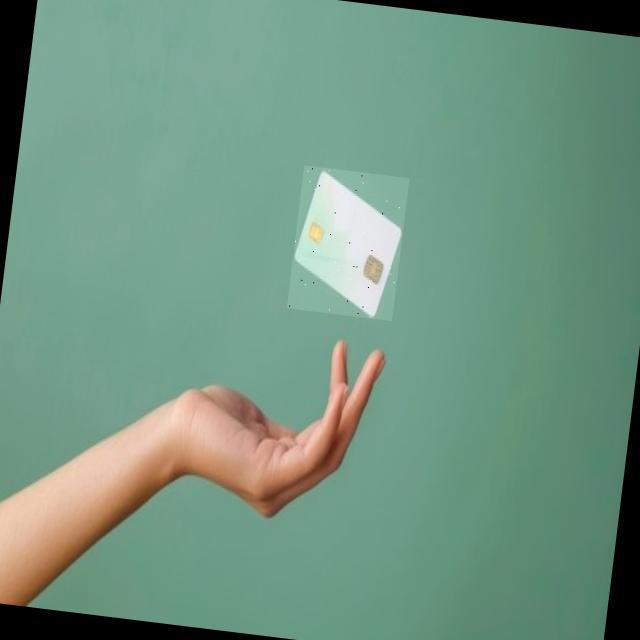payment_card: (294, 170, 401, 320)
